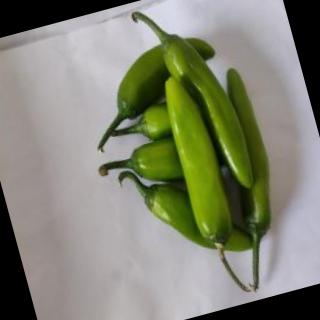Cabai Hijau: (154, 70, 254, 303), (199, 65, 302, 290)
